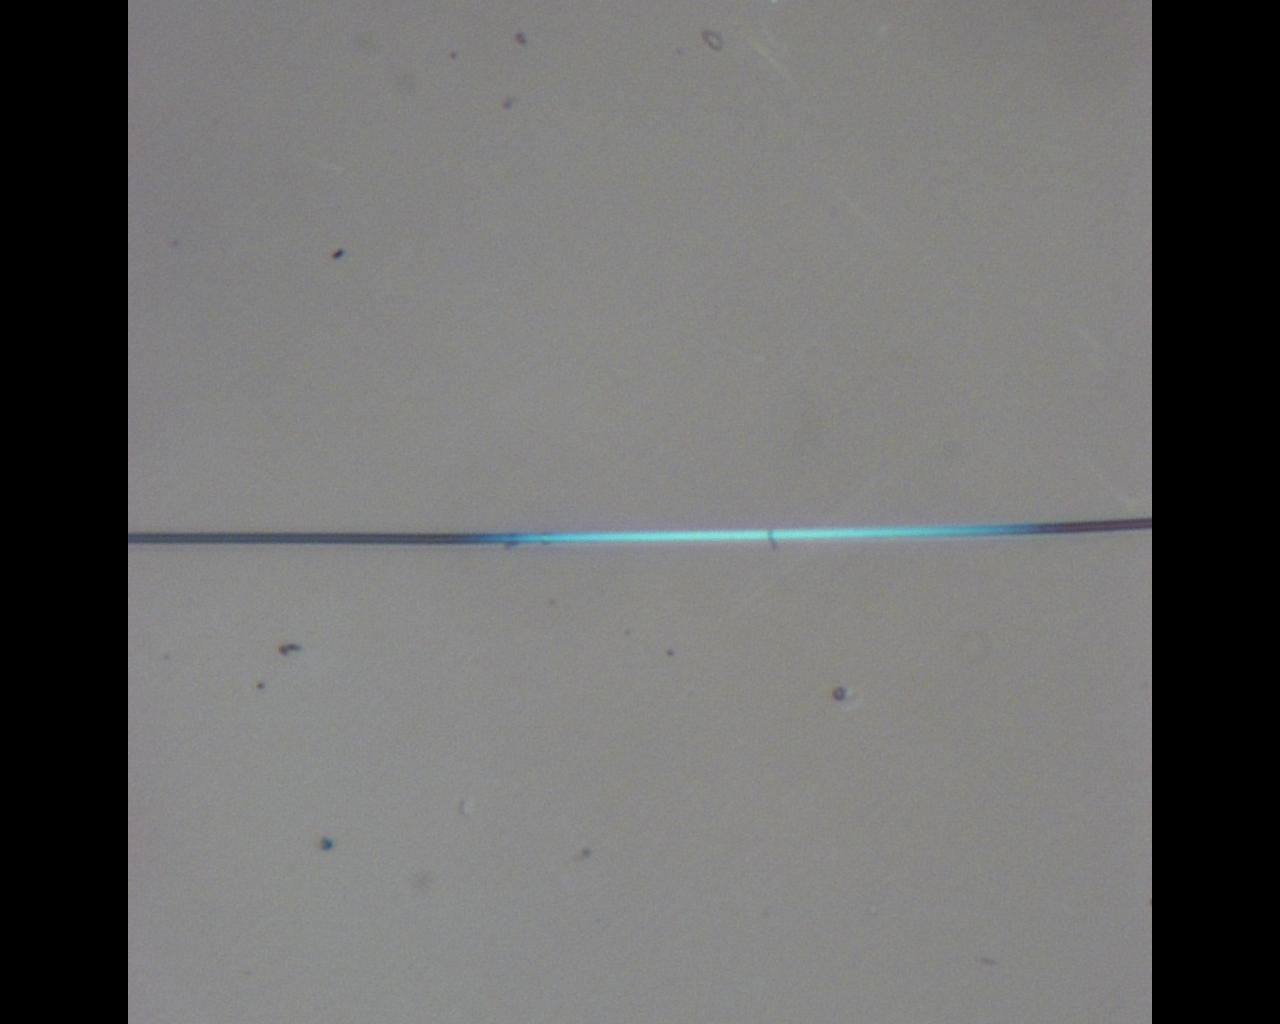fiber: (127, 518, 1150, 544)
